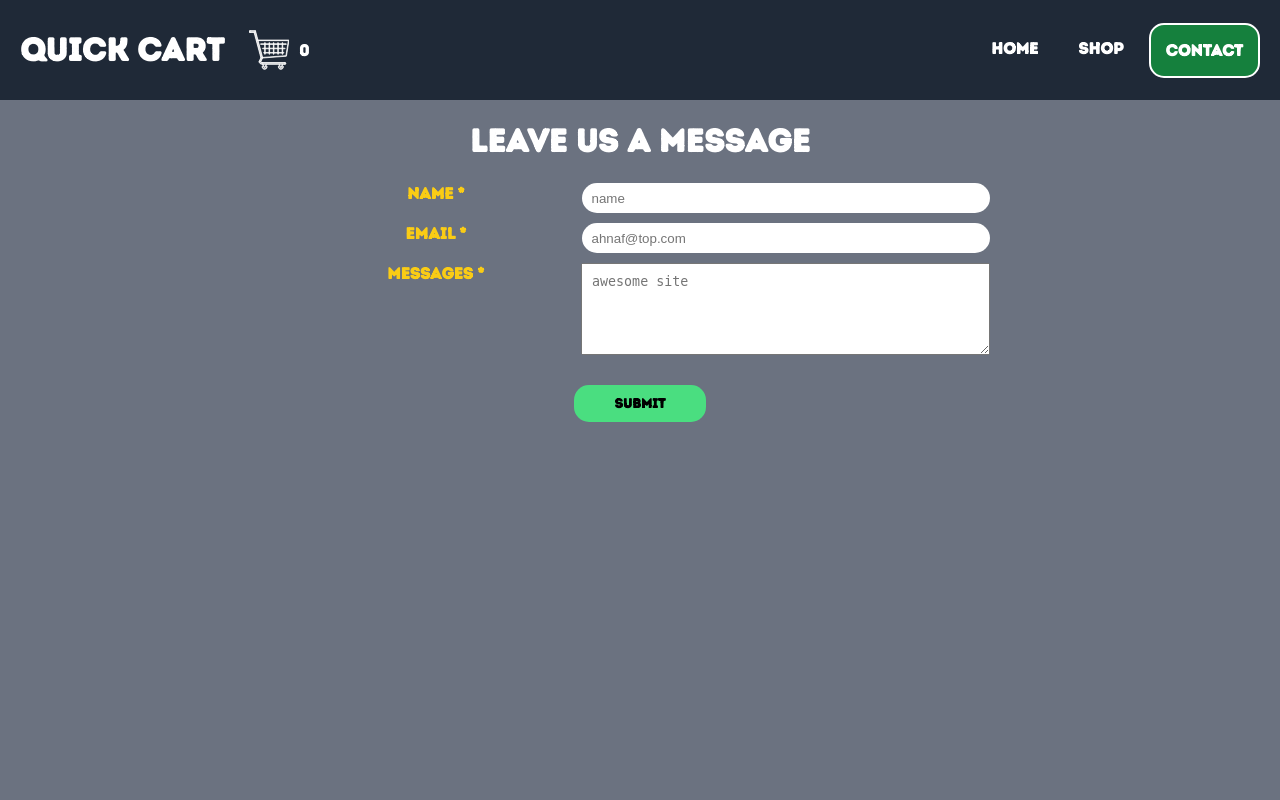
Test case: App component tests › shows shop page when shop clicked
The width and height of the screenshot is (1280, 800).
Step 1. Click the link with test id "shop" → (1101, 48), box [1078,38,1124,58]
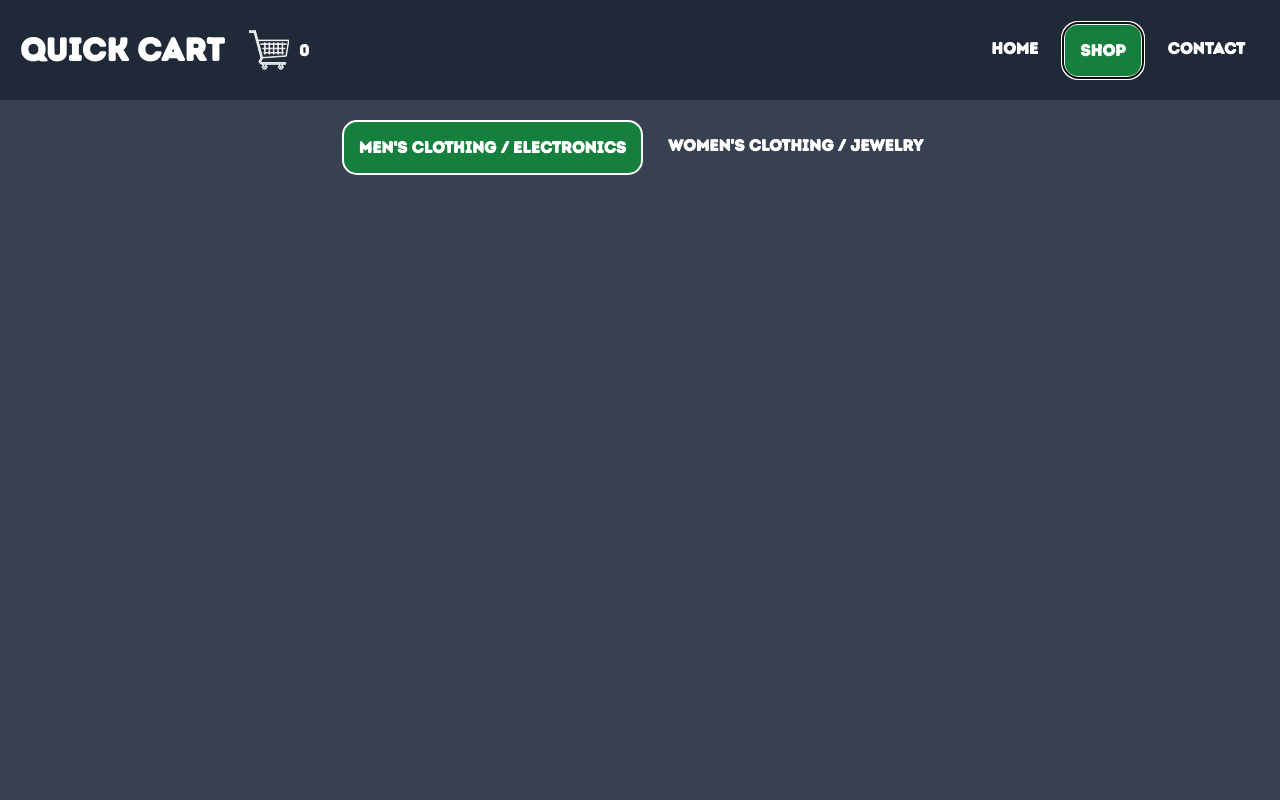
Now the link "Men's Clothing / electronics" is shown, box [342,120,643,175]
